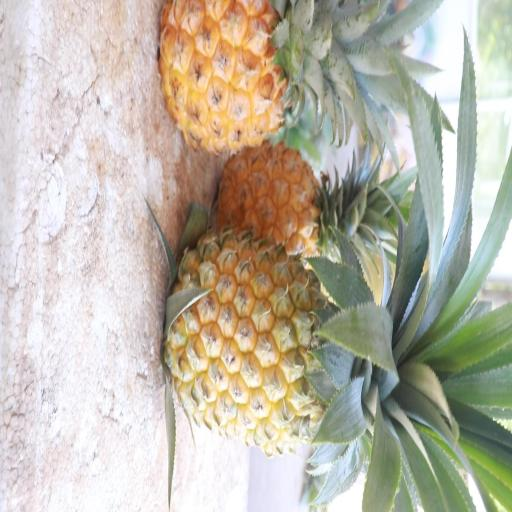Pineapple - v8 v1: (164, 226, 388, 462), (157, 0, 356, 157), (216, 139, 381, 265)
